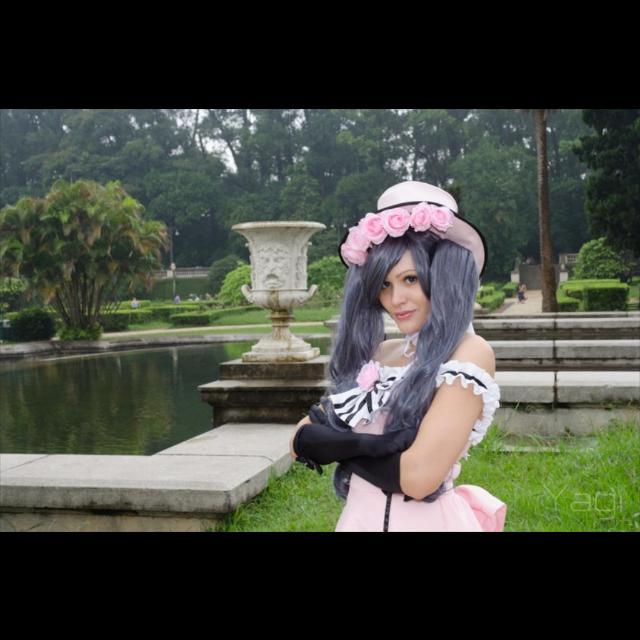Flower: (382, 204, 414, 236), (352, 358, 384, 389), (356, 210, 384, 242), (339, 240, 366, 268), (348, 226, 372, 254), (411, 202, 433, 230), (428, 205, 452, 228)
